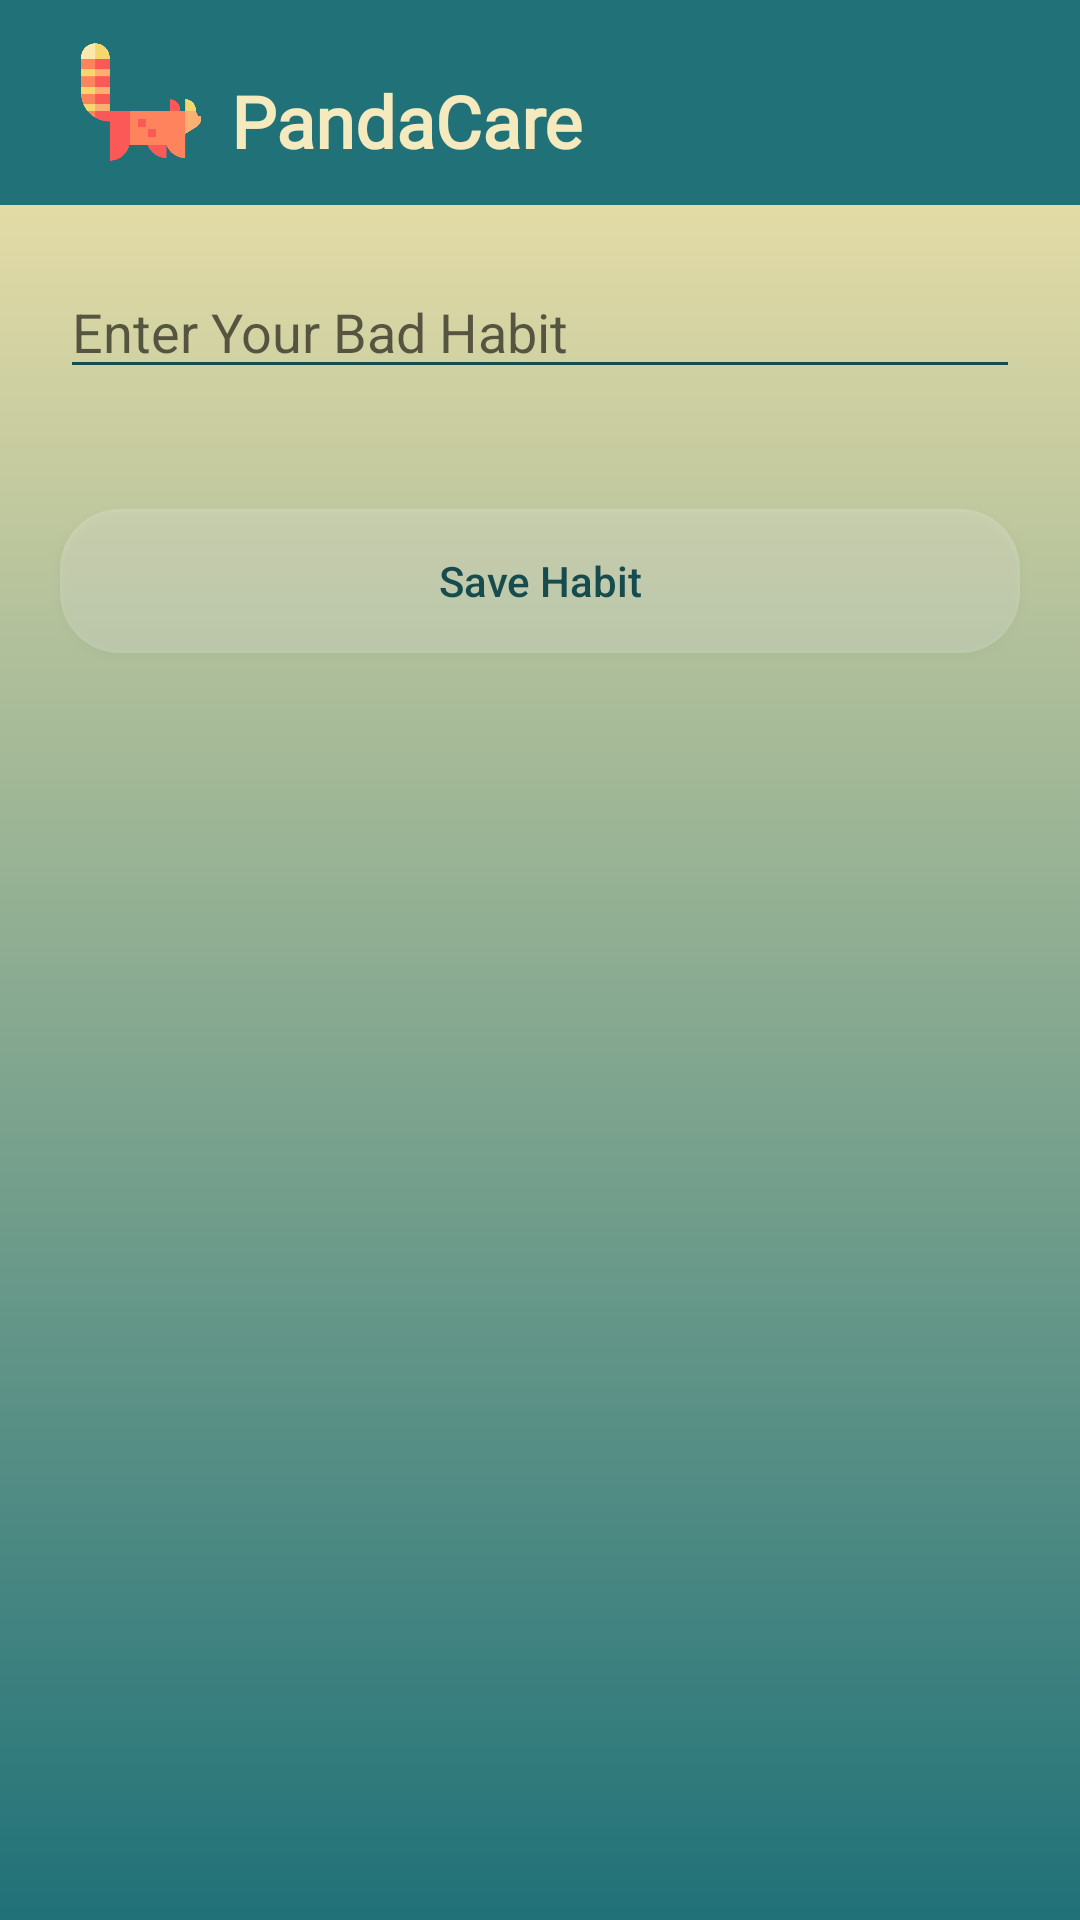

Icon click points for this 1080px×1920px phone screenshot, format point (x, y):
panda main: point (141, 102)
